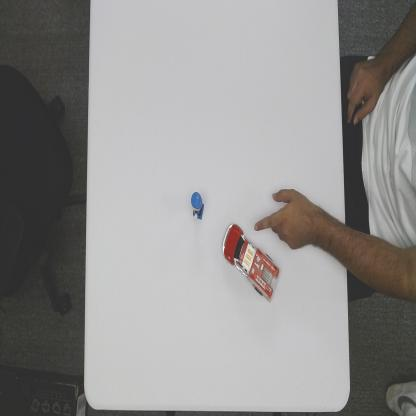Arm: (315, 205, 347, 263)
Firetruck: (221, 221, 280, 304)
Hand: (252, 185, 316, 250)
